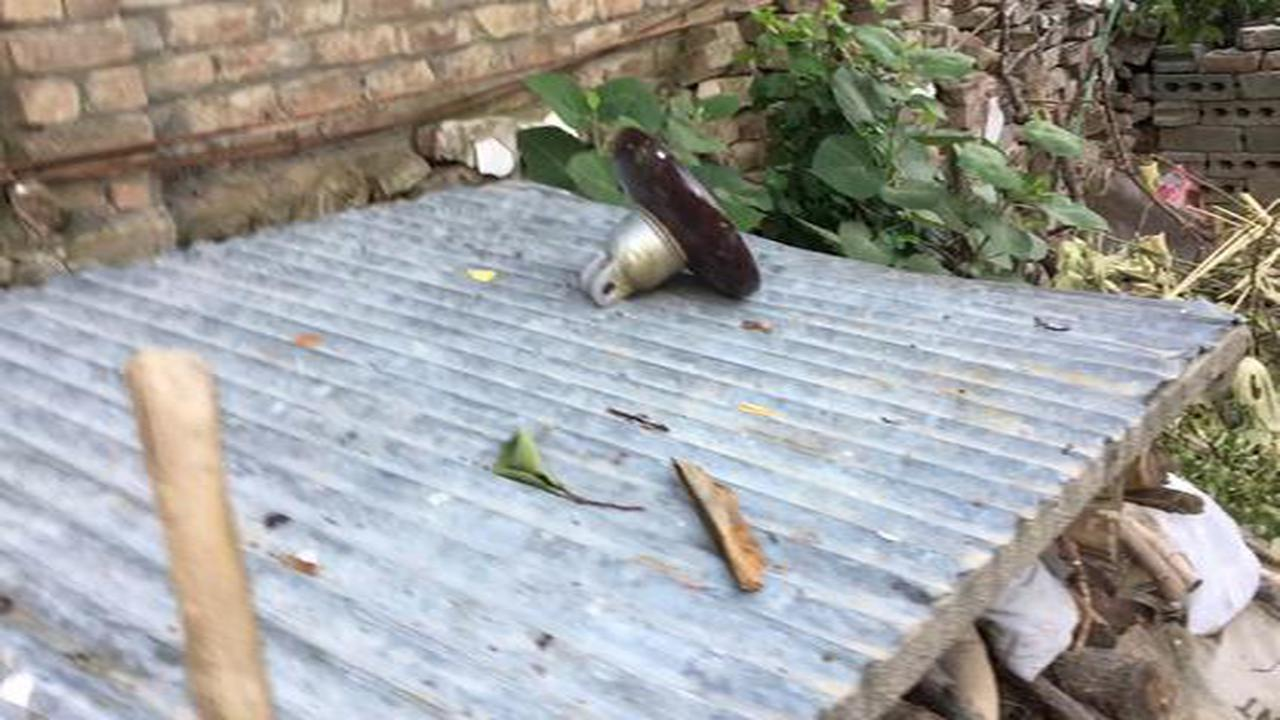insulator_disc: (566, 119, 769, 308)
